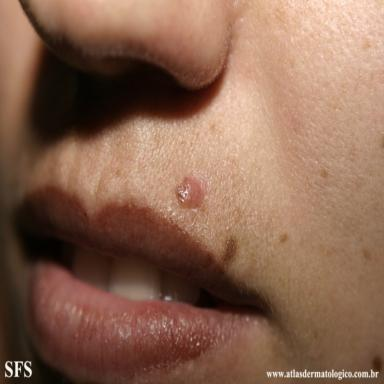basal-cell-carcinoma: (177, 175, 207, 208)
